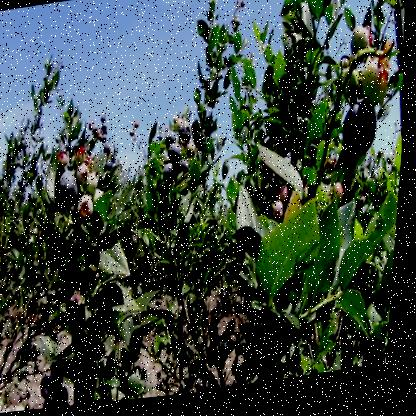intermediate: (333, 186, 349, 215)
mature: (343, 108, 382, 163), (166, 148, 189, 188), (61, 172, 82, 210), (45, 372, 70, 396), (165, 133, 180, 152), (181, 132, 194, 150)
young: (362, 64, 391, 110), (77, 161, 102, 196), (349, 35, 373, 64), (81, 196, 98, 225), (276, 204, 291, 229)
